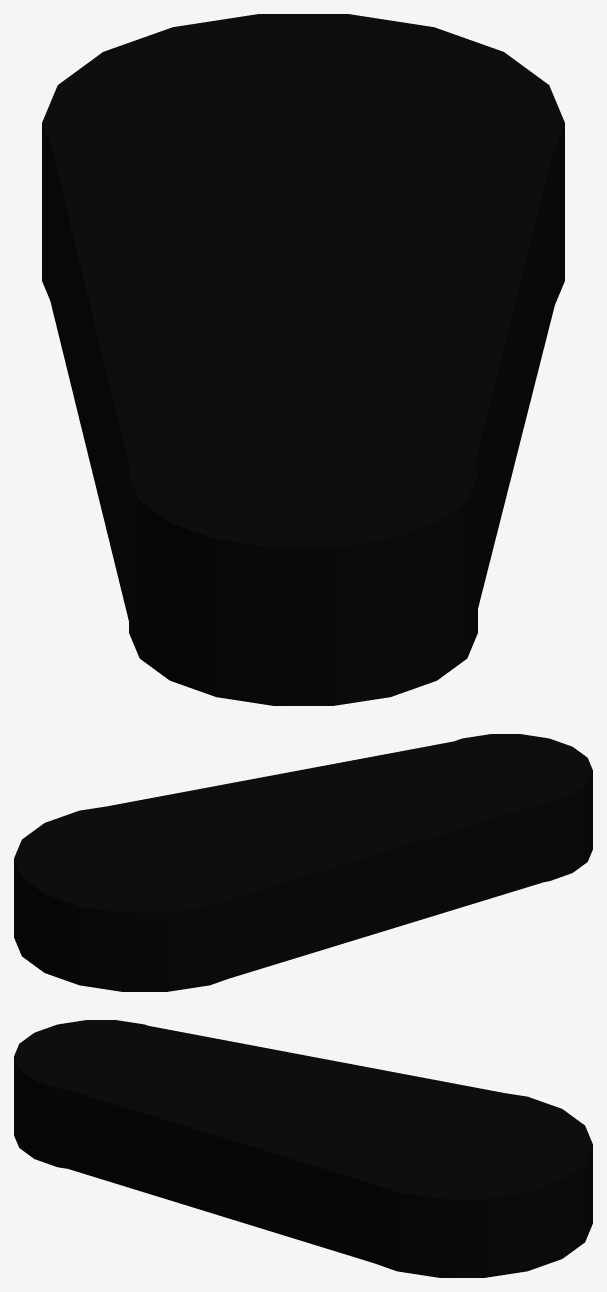
File: 1_paleta.obj
The picture shows the model from 3 angles, top to bottom: view 1: azimuth 30°, elevation 25°; view 2: azimuth 150°, elevation 25°; view 3: azimuth 270°, elevation 25°; orthographic projection. The views are drawn at different scales.
Visible parts, largest first — view 1: Box007, Cylinder002, Cylinder001; view 2: Box007, Cylinder001, Cylinder002; view 3: Box007, Cylinder001, Cylinder002.
Boxes of the visible parts, bbox=[...] form: Box007: bbox=[45, 121, 561, 620]; Cylinder002: bbox=[129, 402, 477, 705]; Cylinder001: bbox=[42, 14, 564, 304]; Box007: bbox=[78, 740, 546, 978]; Cylinder001: bbox=[14, 806, 275, 991]; Cylinder002: bbox=[419, 734, 592, 881]; Box007: bbox=[59, 1026, 524, 1263]; Cylinder001: bbox=[332, 1093, 592, 1277]; Cylinder002: bbox=[14, 1020, 187, 1168].
Size of the model in its own units: 9.71 by 2 by 13.28.
1 material, 1 textured.
